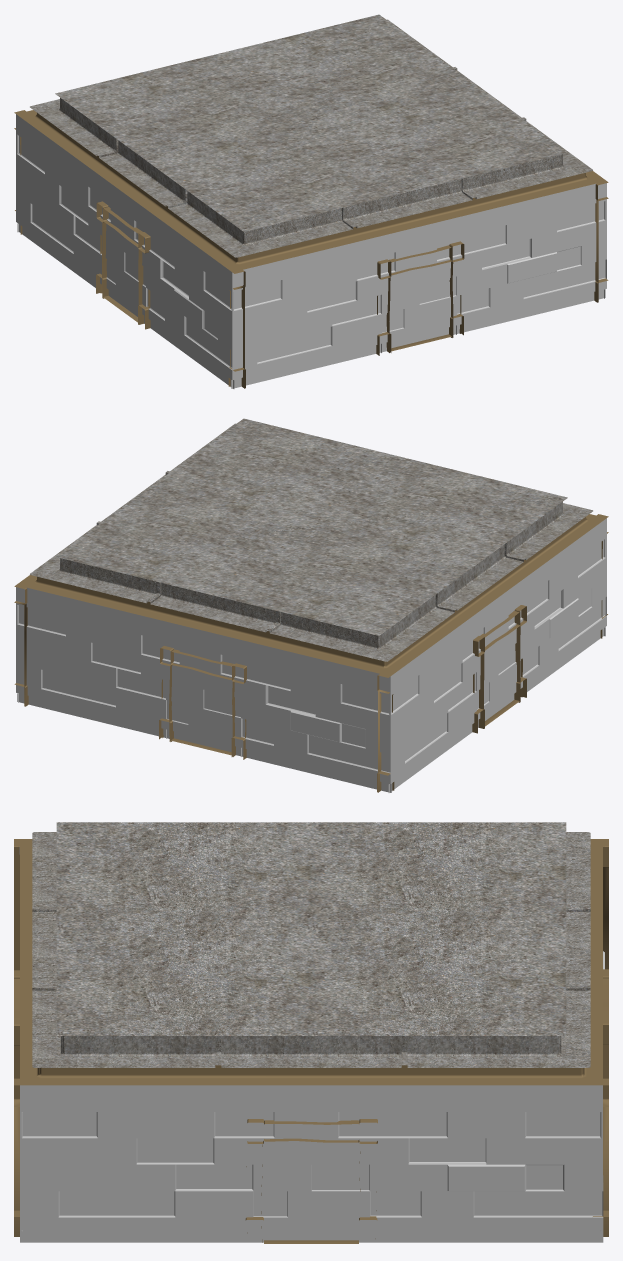
Rendered from Room.FBX.
The picture shows the model from 3 angles, top to bottom: view 1: azimuth 30°, elevation 25°; view 2: azimuth 150°, elevation 25°; view 3: azimuth 270°, elevation 25°; orthographic projection. The views are drawn at different scales.
Visible parts, largest first — view 1: Ceiling, Walls, EastDoor, SouthDoor, SouthDoorFrame, EastDoorFrame, Pillars; view 2: Ceiling, Walls, WestDoor, SouthDoor, SouthDoorFrame, WestDoorFrame, Pillars; view 3: Ceiling, Walls, NorthDoor, Pillars, NorthDoorFrame, WestDoorFrame, EastDoorFrame.
Boxes of the visible parts, x1,y1,x2,y2 form: Ceiling: [19, 14, 602, 269]; Walls: [16, 114, 606, 388]; EastDoor: [381, 257, 456, 352]; SouthDoor: [102, 217, 145, 323]; SouthDoorFrame: [96, 201, 150, 329]; EastDoorFrame: [376, 241, 464, 355]; Pillars: [14, 110, 608, 388]; Ceiling: [20, 418, 603, 673]; Walls: [16, 518, 606, 792]; WestDoor: [166, 661, 241, 756]; SouthDoor: [477, 623, 516, 727]; SouthDoorFrame: [472, 605, 526, 733]; WestDoorFrame: [159, 646, 246, 759]; Pillars: [14, 514, 608, 792]; Ceiling: [20, 822, 602, 1085]; Walls: [19, 847, 604, 1242]; NorthDoor: [253, 1138, 369, 1242]; Pillars: [14, 839, 608, 1236]; NorthDoorFrame: [245, 1119, 377, 1243]; WestDoorFrame: [603, 969, 608, 1078]; EastDoorFrame: [14, 970, 19, 1078].
Size of what is drawn, in the model's own units: 10.2 by 3.62 by 10.2.
